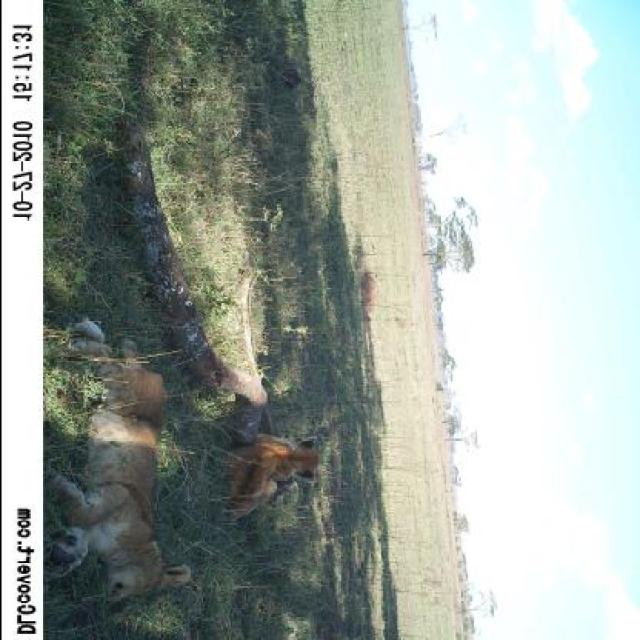Lion: (32, 316, 192, 618), (202, 406, 331, 540)
